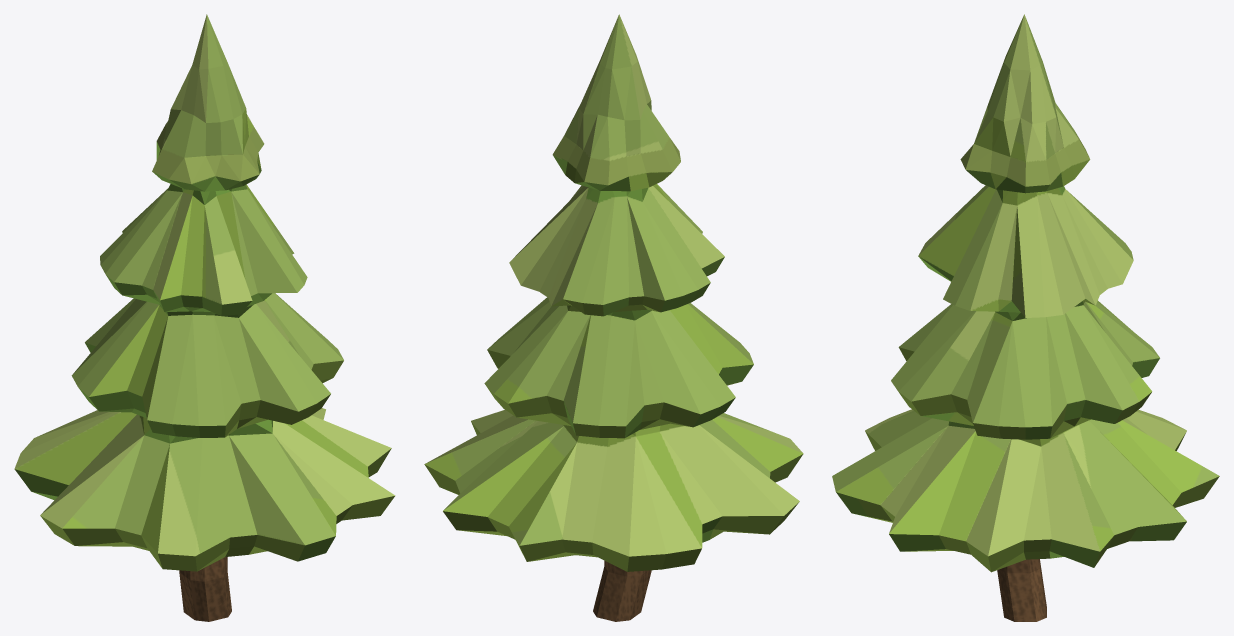
File: tree2.obj
3 views of the same model, side by side, from view 1: azimuth 30°, elevation 25°; view 2: azimuth 150°, elevation 25°; view 3: azimuth 270°, elevation 25° (orthographic).
Visible parts, largest first — view 1: _9_tree__9_tree_0; view 2: _9_tree__9_tree_0; view 3: _9_tree__9_tree_0.
Part boxes in pixels (box(x1,y1,x2,y2)): _9_tree__9_tree_0: box(14, 14, 395, 621); _9_tree__9_tree_0: box(424, 14, 803, 621); _9_tree__9_tree_0: box(832, 14, 1219, 621).
Size of the model in its own units: 0.5932 by 1.02 by 0.5989.
1 material, 1 textured.
